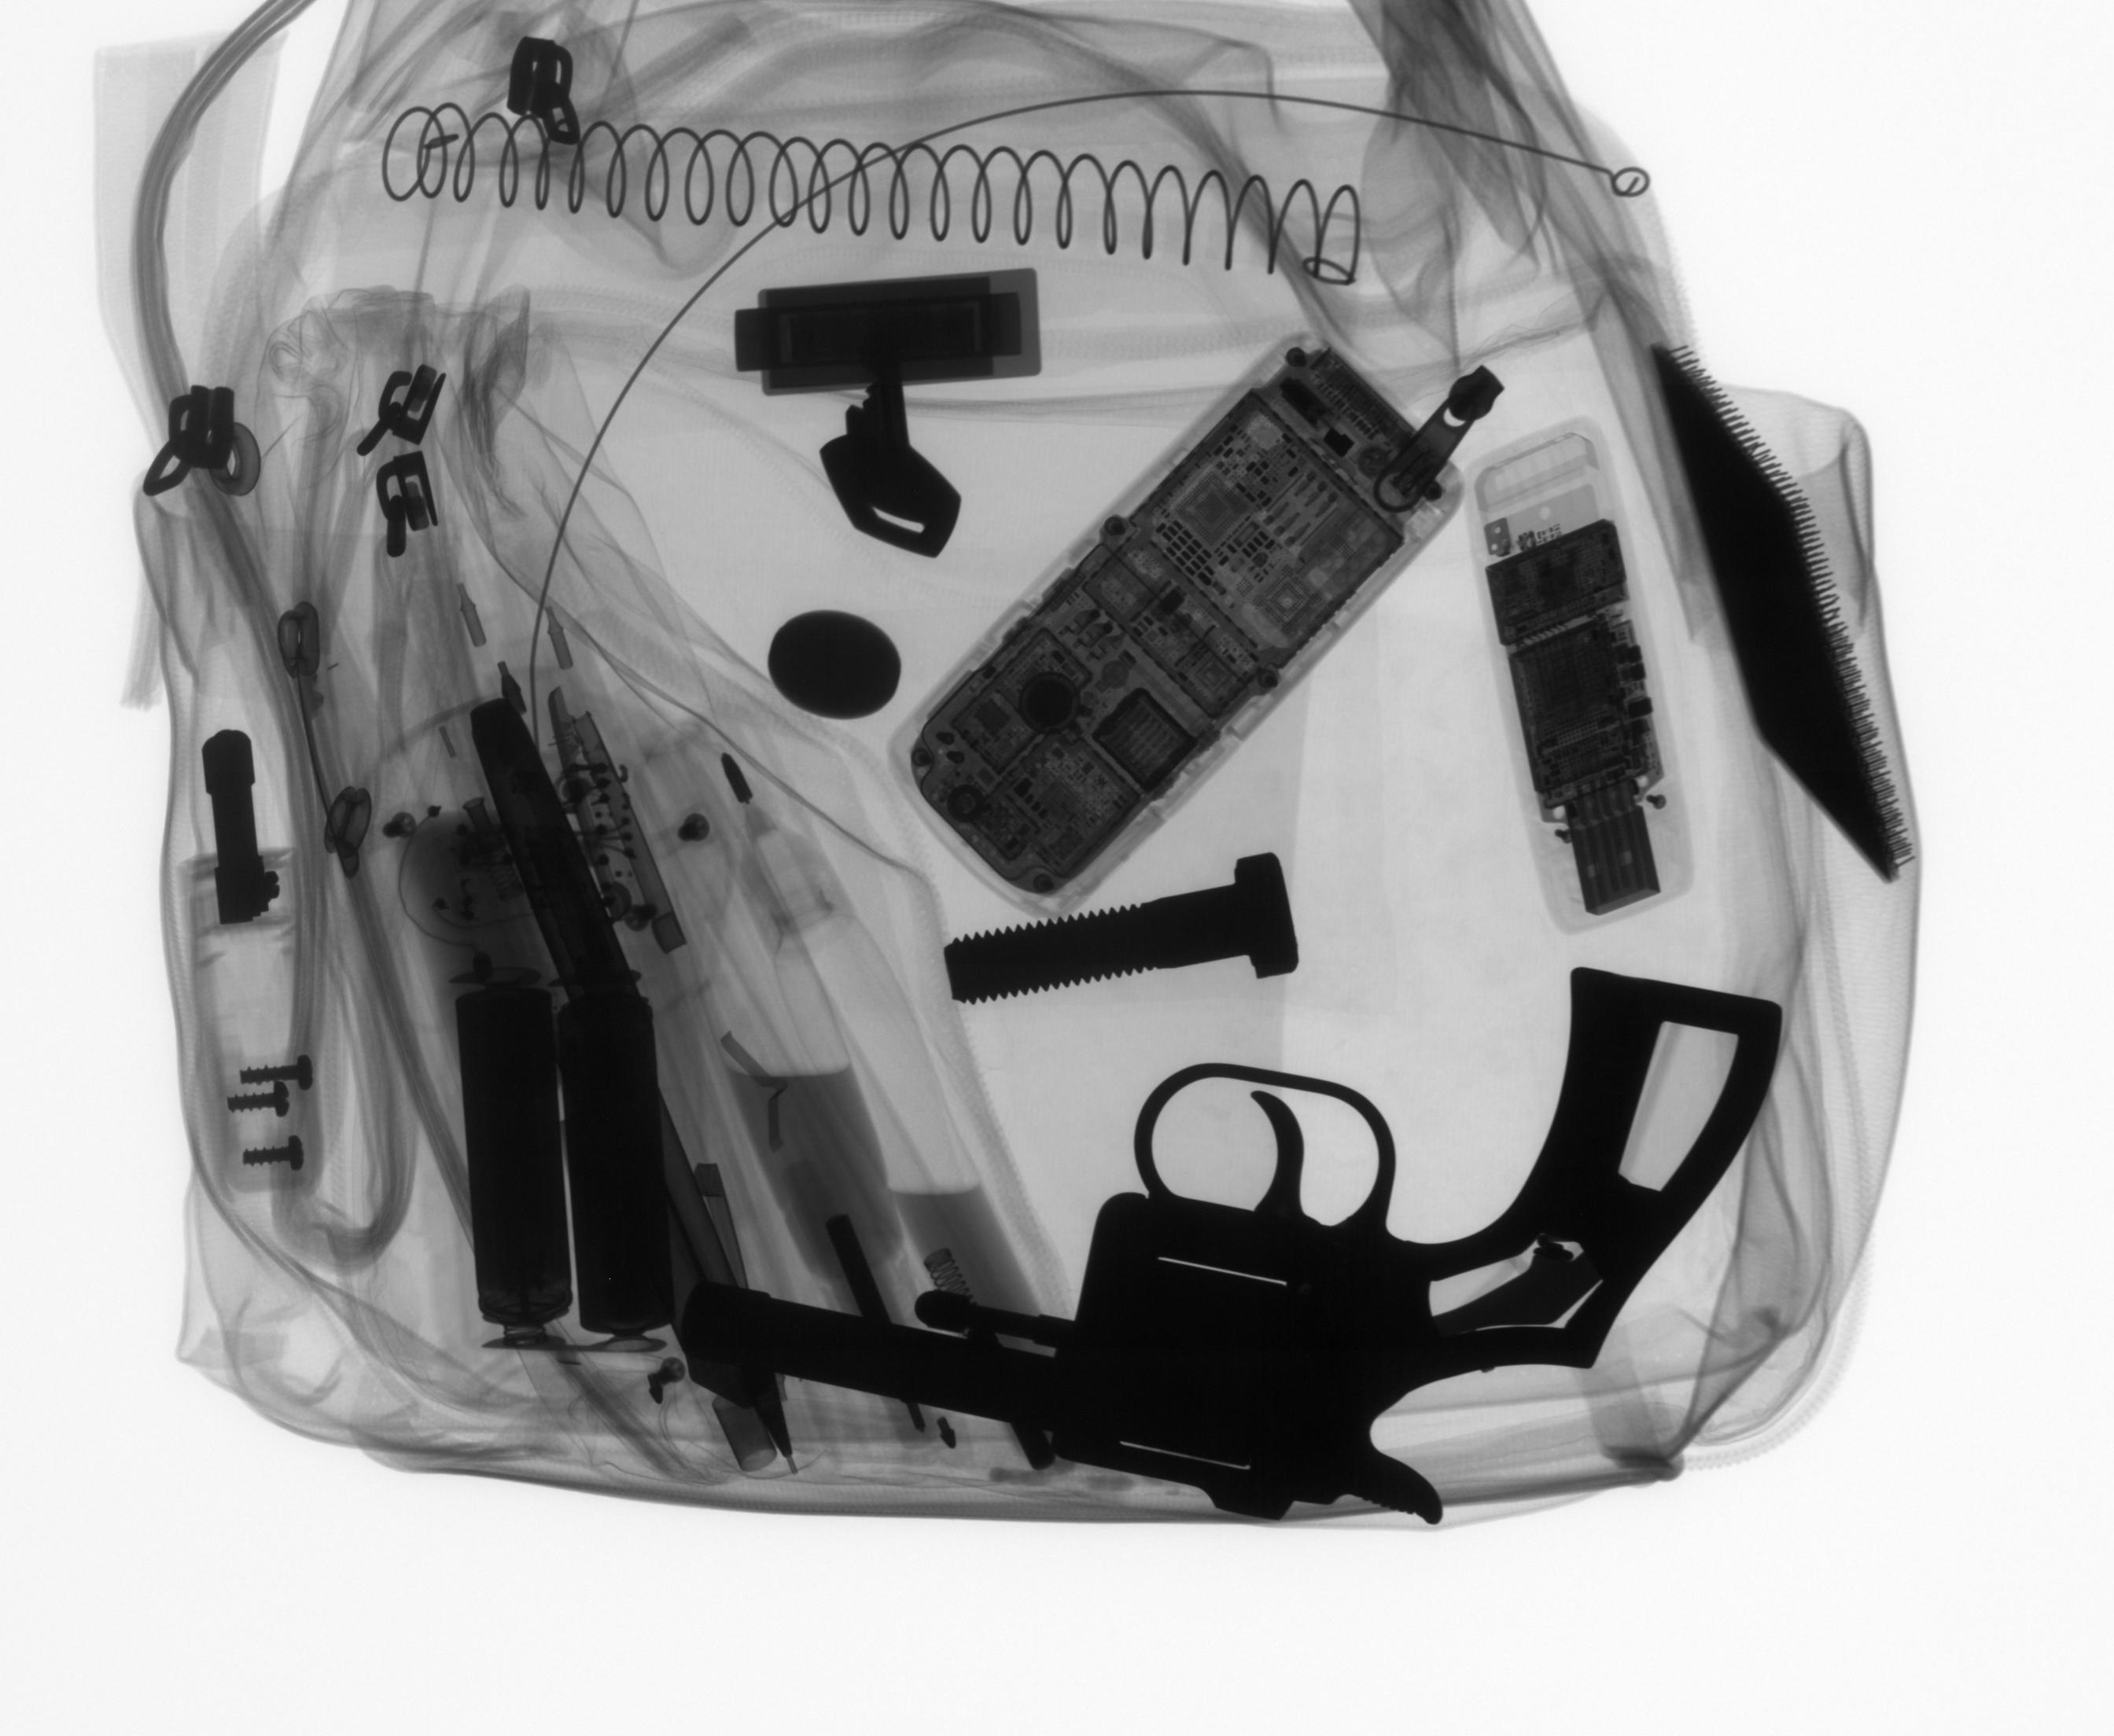Handgun: (680, 962, 1792, 1537)
